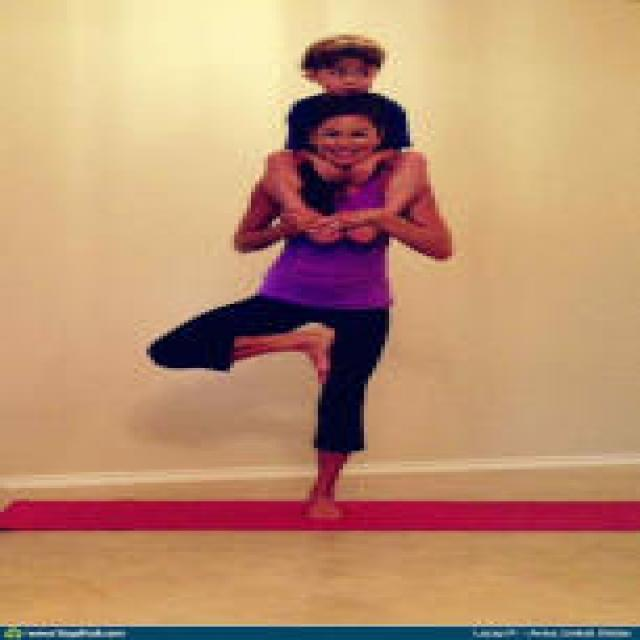yoga-pose tree: (148, 115, 458, 523)
